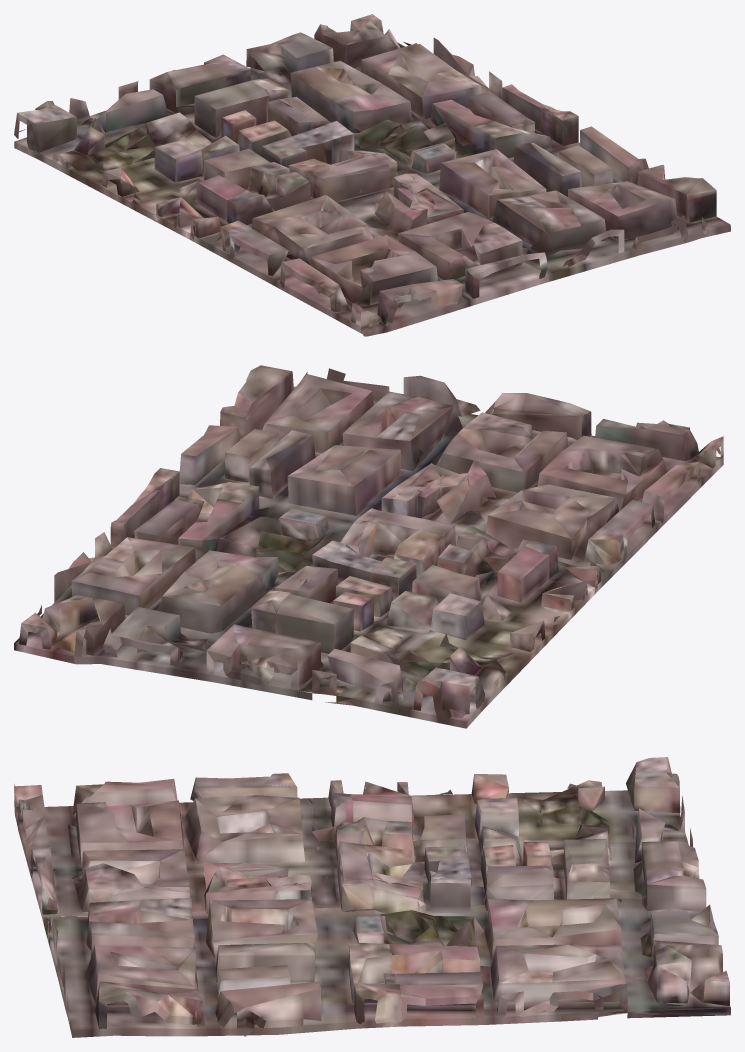
3 renders of one model, top to bottom at view 1: azimuth 30°, elevation 25°; view 2: azimuth 150°, elevation 25°; view 3: azimuth 270°, elevation 25°, orthographic. The views are drawn at different scales.
Parts seen in each view (by area): view 1: Mesh_0; view 2: Mesh_0; view 3: Mesh_0.
Part boxes in pixels (x1,y1,x2,y2): Mesh_0: [14, 14, 730, 336]; Mesh_0: [14, 365, 723, 728]; Mesh_0: [14, 757, 730, 1037].
Size of the model in its own units: 532 by 84.37 by 660.
2 materials, 2 textured.
